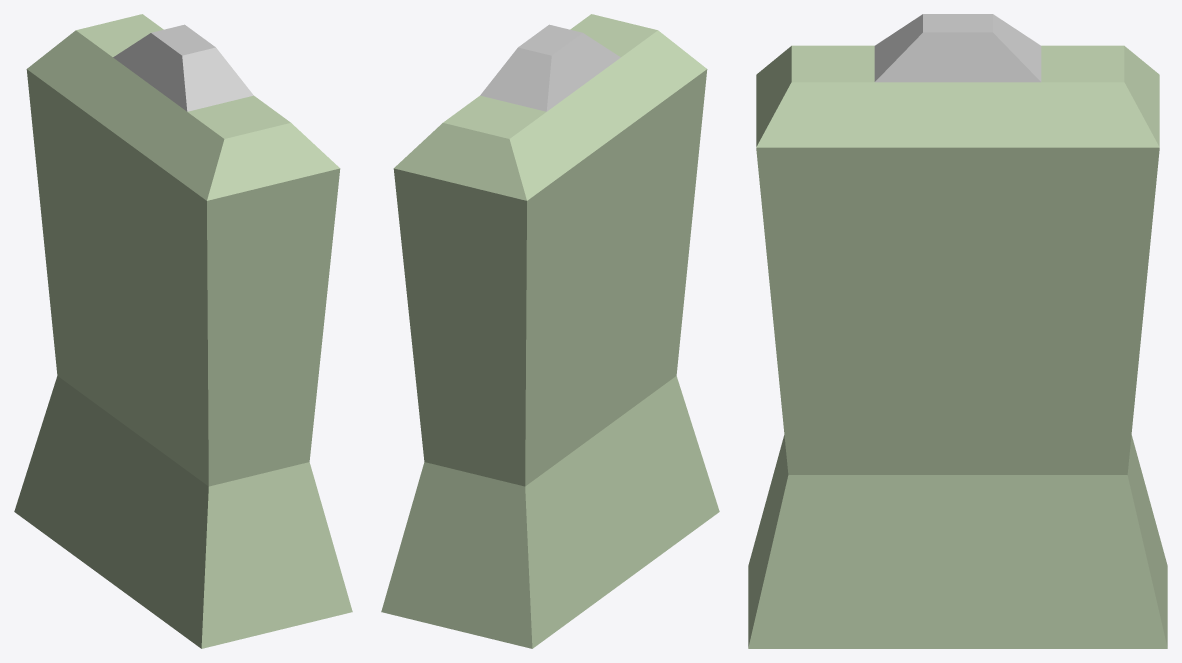
Rendered from SoldierMutant-Torso.fbx.
3 views of the same model, side by side, from view 1: azimuth 30°, elevation 25°; view 2: azimuth 150°, elevation 25°; view 3: azimuth 270°, elevation 25° (orthographic). The views are drawn at different scales.
Parts seen in each view (by area): view 1: SoldierMutantTorso; view 2: SoldierMutantTorso; view 3: SoldierMutantTorso.
Boxes of the visible parts, box(x1,y1,x2,y2) form: SoldierMutantTorso: box(14, 14, 352, 648); SoldierMutantTorso: box(381, 14, 719, 648); SoldierMutantTorso: box(748, 14, 1167, 648).
Size of the model in its own units: 0.2352 by 0.7757 by 0.5048.
